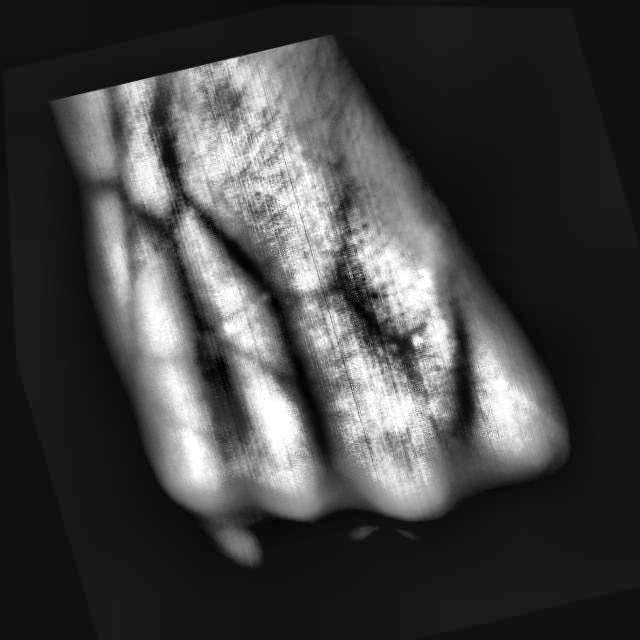Vein: (182, 188, 324, 376)
